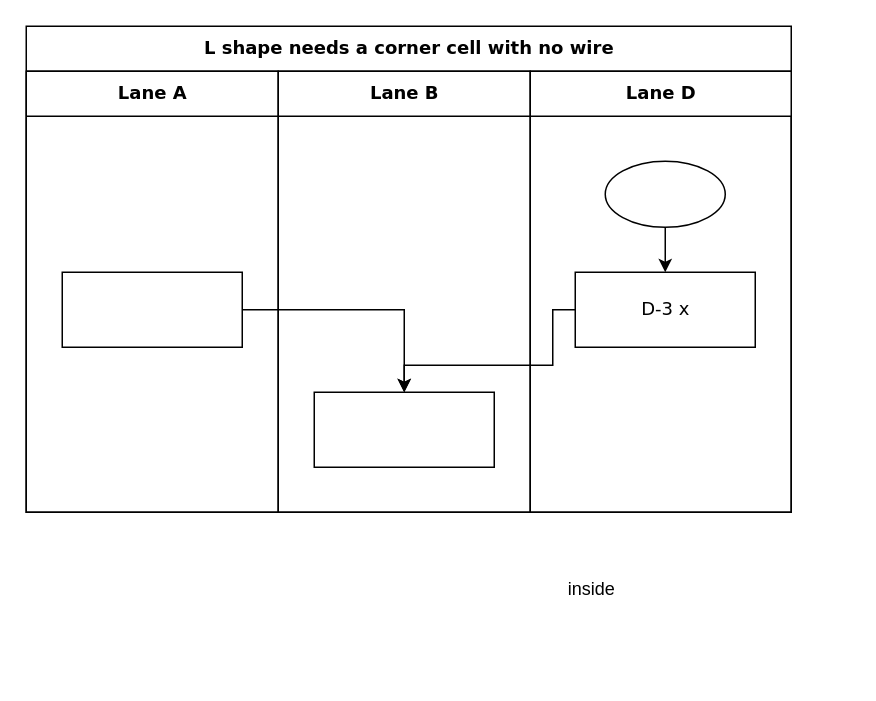
Image size: 876x701. Some labels were removed from this diagram. Each missing label, with the centre of its shape:
A-2 x: (x=151, y=309)
B-4 x: (x=403, y=429)
D-1 x: (x=664, y=193)
